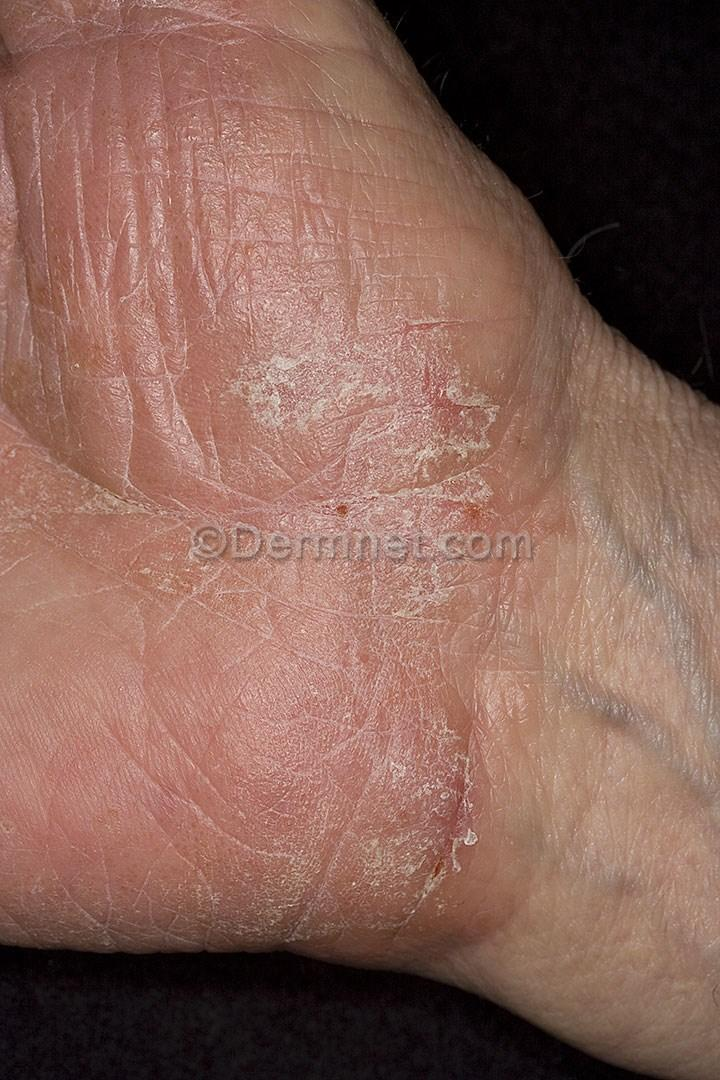Eczema: (140, 570, 549, 933), (111, 220, 537, 510), (0, 2, 351, 228), (0, 505, 141, 933)
